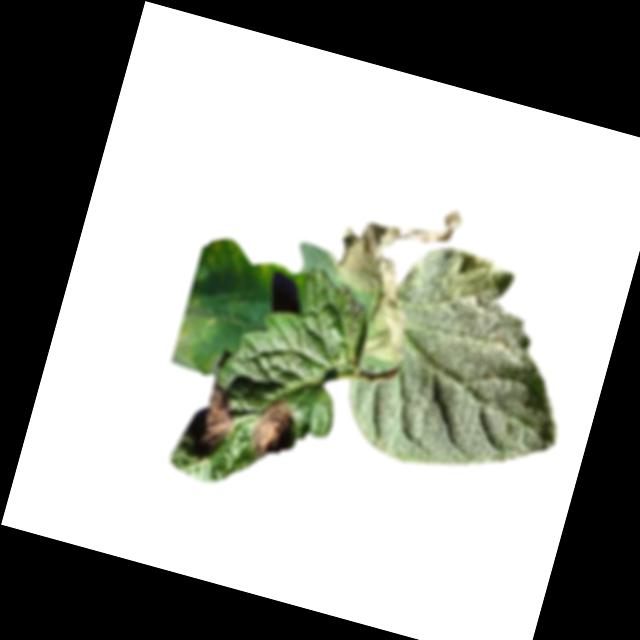Late_blight: (310, 179, 462, 371), (172, 246, 237, 363), (244, 390, 305, 471), (191, 380, 245, 463)
healthy: (334, 231, 597, 499)
